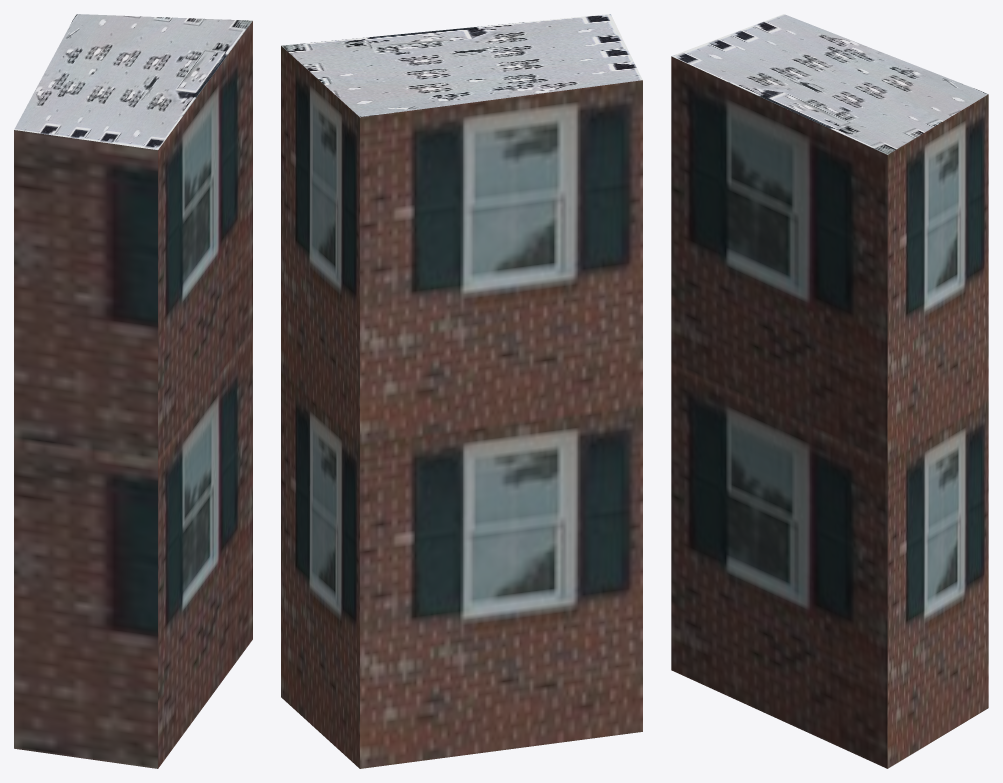
The model's file is ResTex__4131.fbx.
3 renders of one model, left to right at view 1: azimuth 30°, elevation 25°; view 2: azimuth 150°, elevation 25°; view 3: azimuth 270°, elevation 25°, orthographic. The views are drawn at different scales.
Visible parts, largest first — view 1: CityEngineMaterial_14_m, CityEngineMaterial_m; view 2: CityEngineMaterial_14_m, CityEngineMaterial_m; view 3: CityEngineMaterial_14_m, CityEngineMaterial_m.
Part boxes in pixels (x1,y1,x2,y2): CityEngineMaterial_14_m: (14,21,252,768); CityEngineMaterial_m: (14,14,252,149); CityEngineMaterial_14_m: (281,46,642,768); CityEngineMaterial_m: (281,14,642,117); CityEngineMaterial_14_m: (671,56,988,768); CityEngineMaterial_m: (671,14,988,154).
Size of the model in its own units: 2.96 by 6 by 2.81.
Materials: 2 (2 with a texture image).
